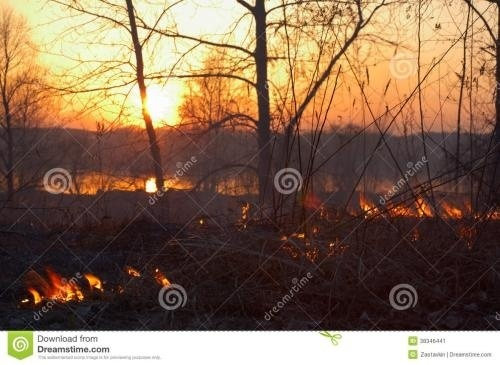fire: (19, 0, 406, 134), (25, 267, 105, 304)
